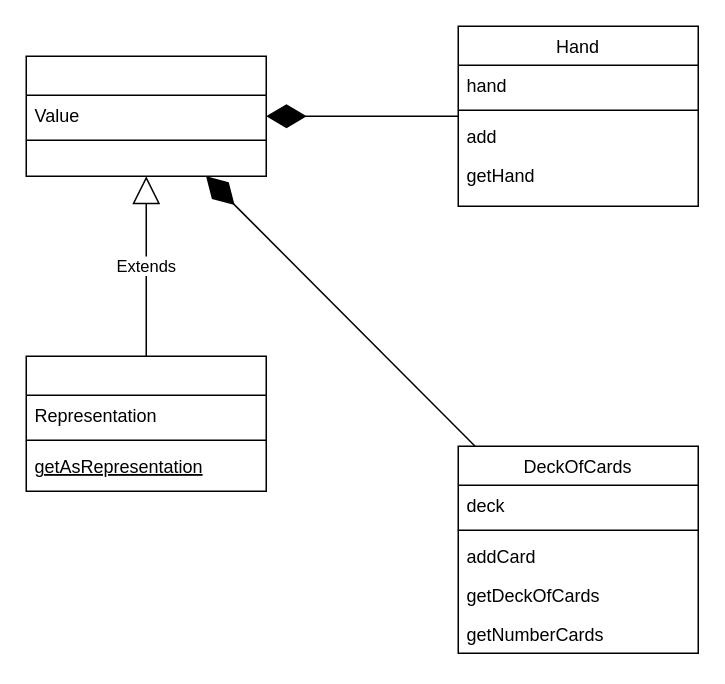
Image size: 725x684. Some labels were removed from this diagram. Here are the shapes that lost their labels. From the top down, the box of each, then its label:
(25, 55, 266, 176): Card
(25, 355, 266, 491): CardGraphic
